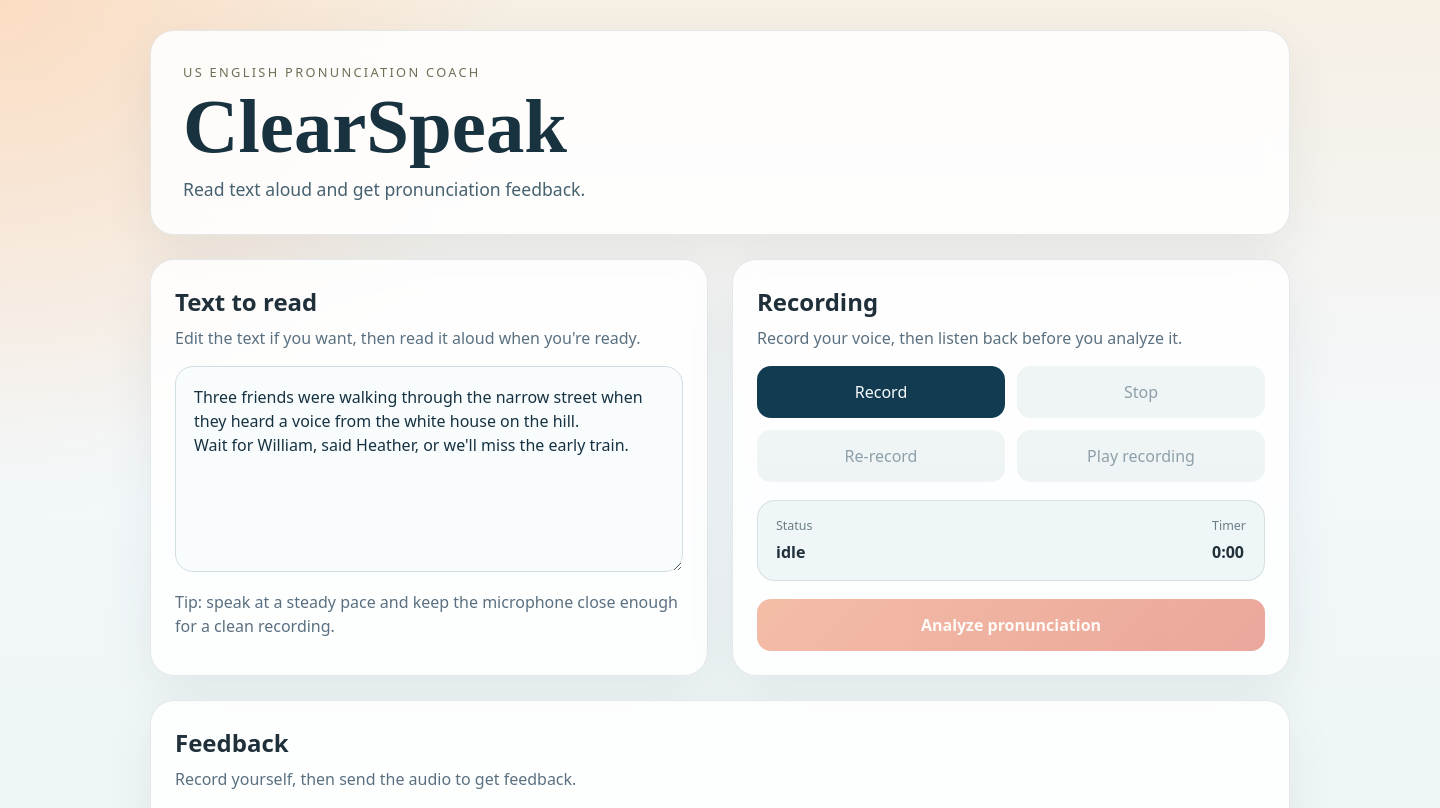
Test case: displays returned feedback after analysis
Click the button "Record" at x=881, y=392, box [757,366,1005,418]
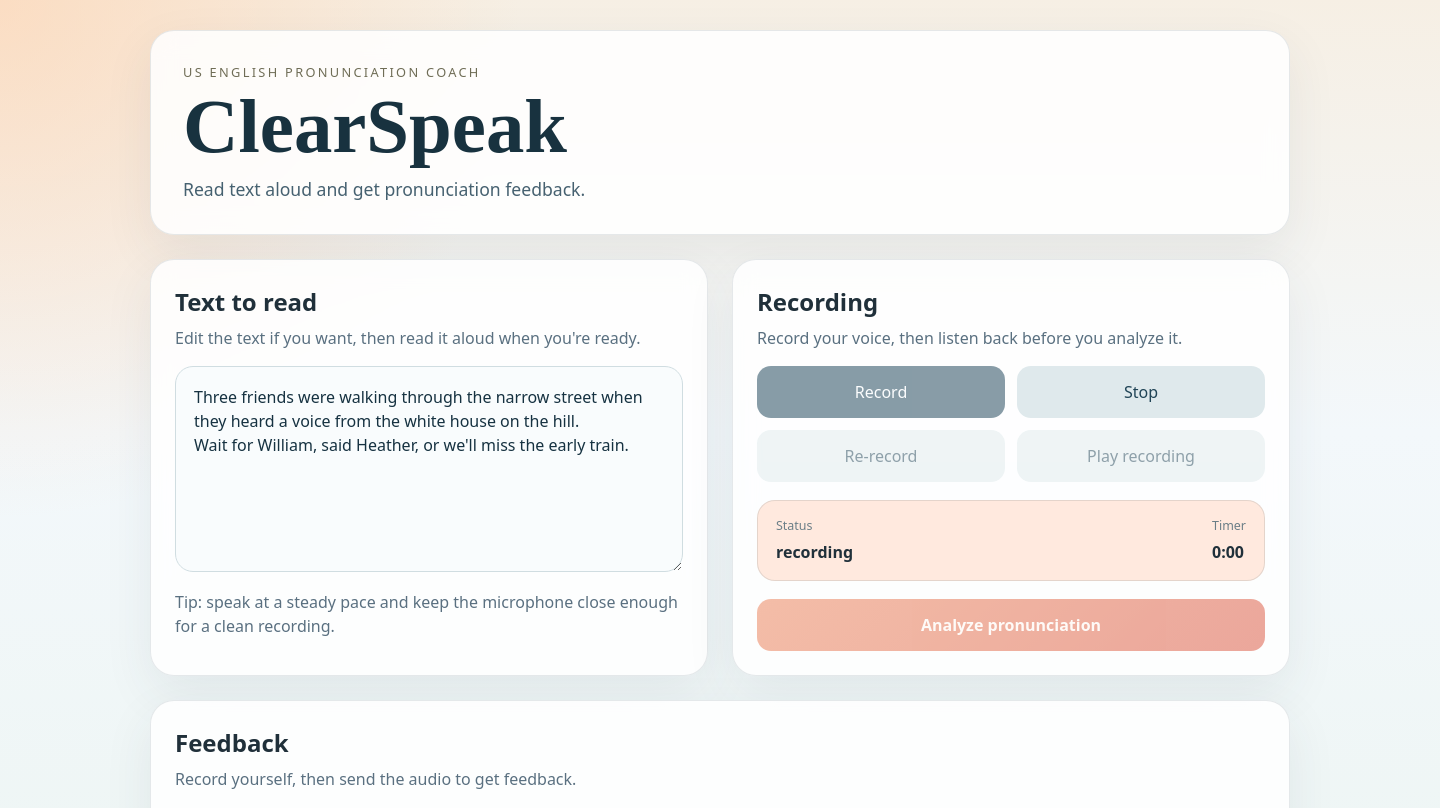
Check: the button "Stop" is enabled
Click the button "Stop" at x=1141, y=392, box [1017,366,1265,418]
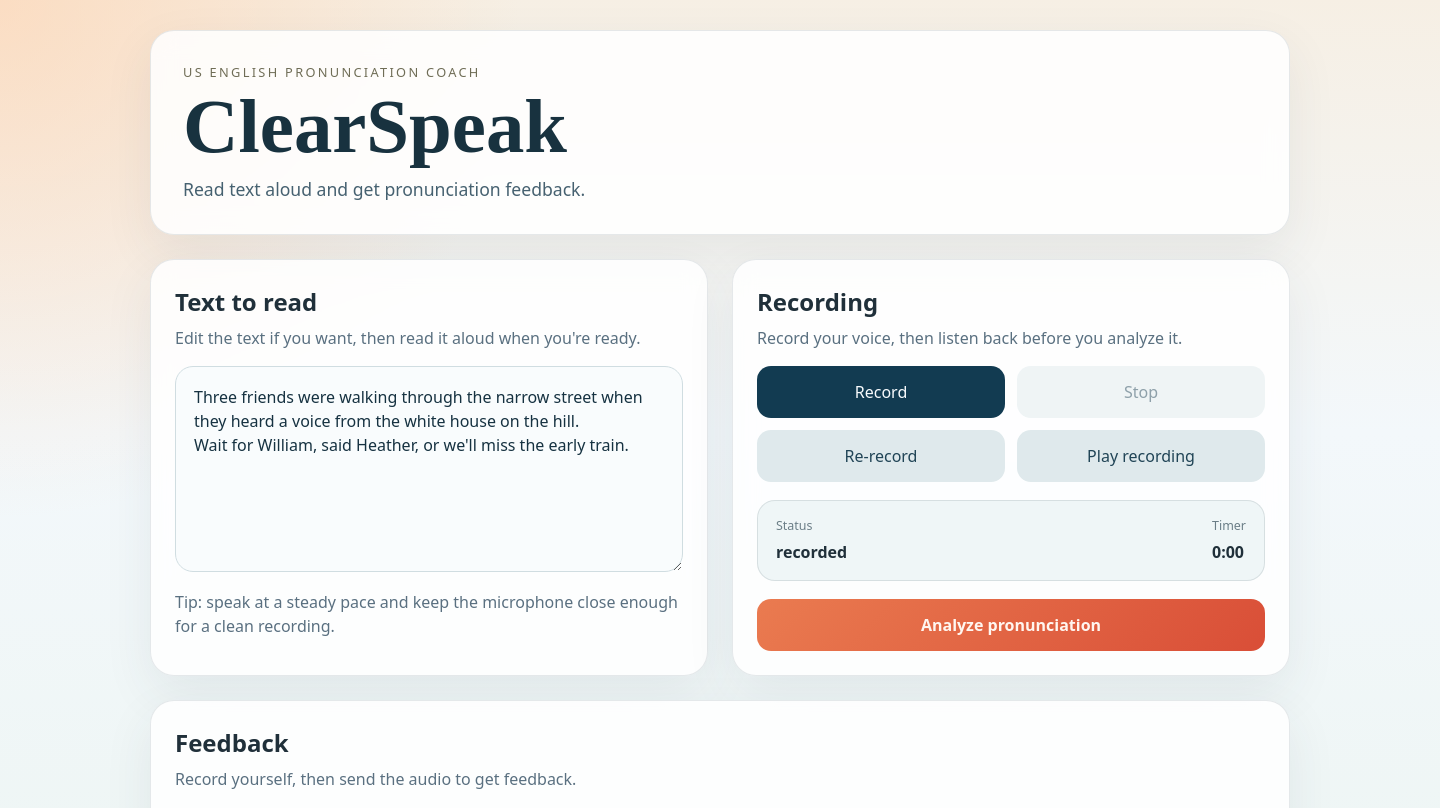
Check: the button "Analyze pronunciation" is enabled
Click the button "Analyze pronunciation" at x=1011, y=625, box [757,599,1265,651]
(page scrolled)
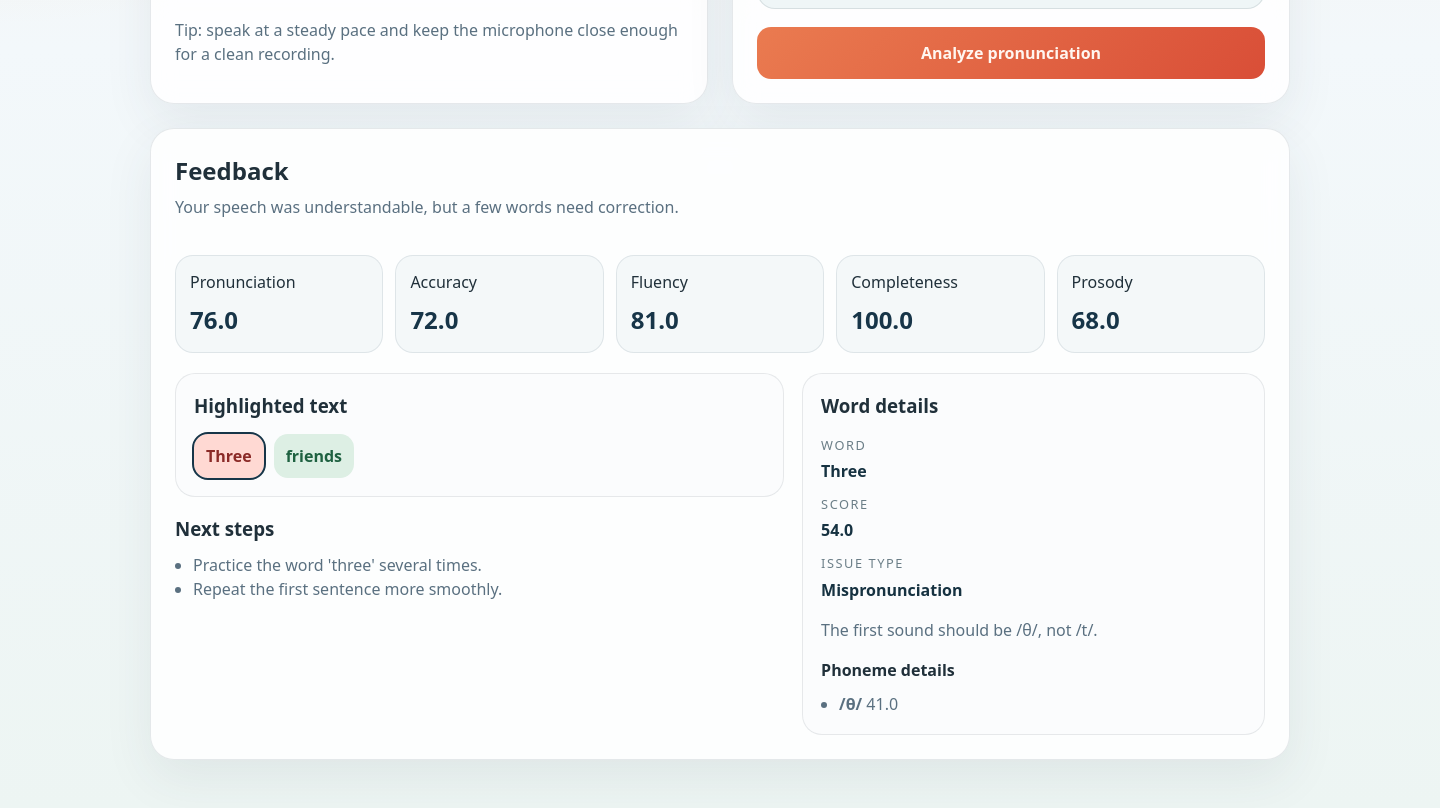
Check: the text "Your speech was understandable" is shown, box [175,196,679,218]
Check: the text "Pronunciation" is shown, box [190,271,296,293]
Check: the button "Three" is shown, box [194,434,264,478]
